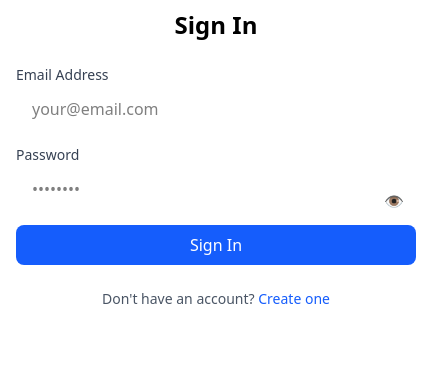
LoginForm › Validation › shows validation error for empty email
Click the button "Sign In". click: (216, 245)
box: top-left (16, 225), bottom-right (416, 265)
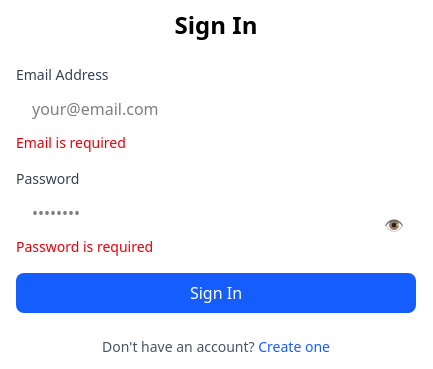
Check: the text "Email is required" is shown, box top-left (16, 133), bottom-right (126, 152)
